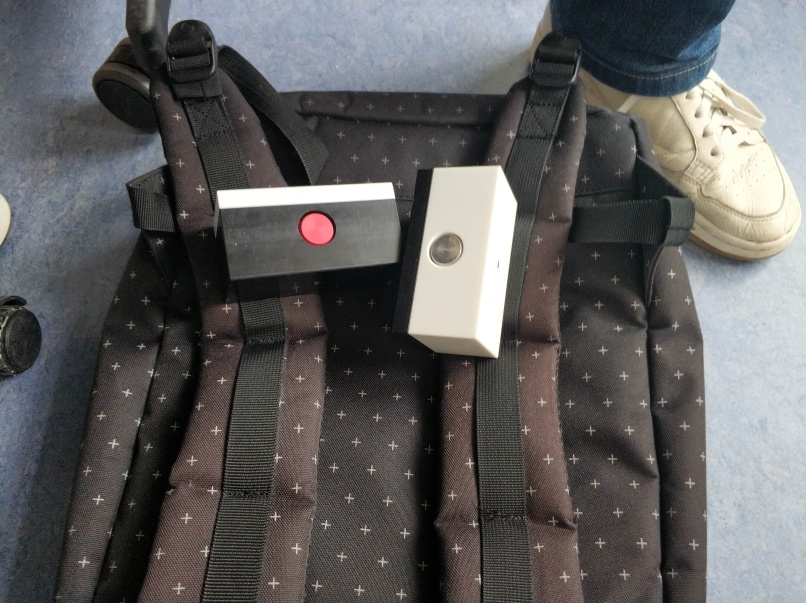black+white+silver: (391, 163, 519, 361)
white+black+red: (210, 177, 402, 305)
